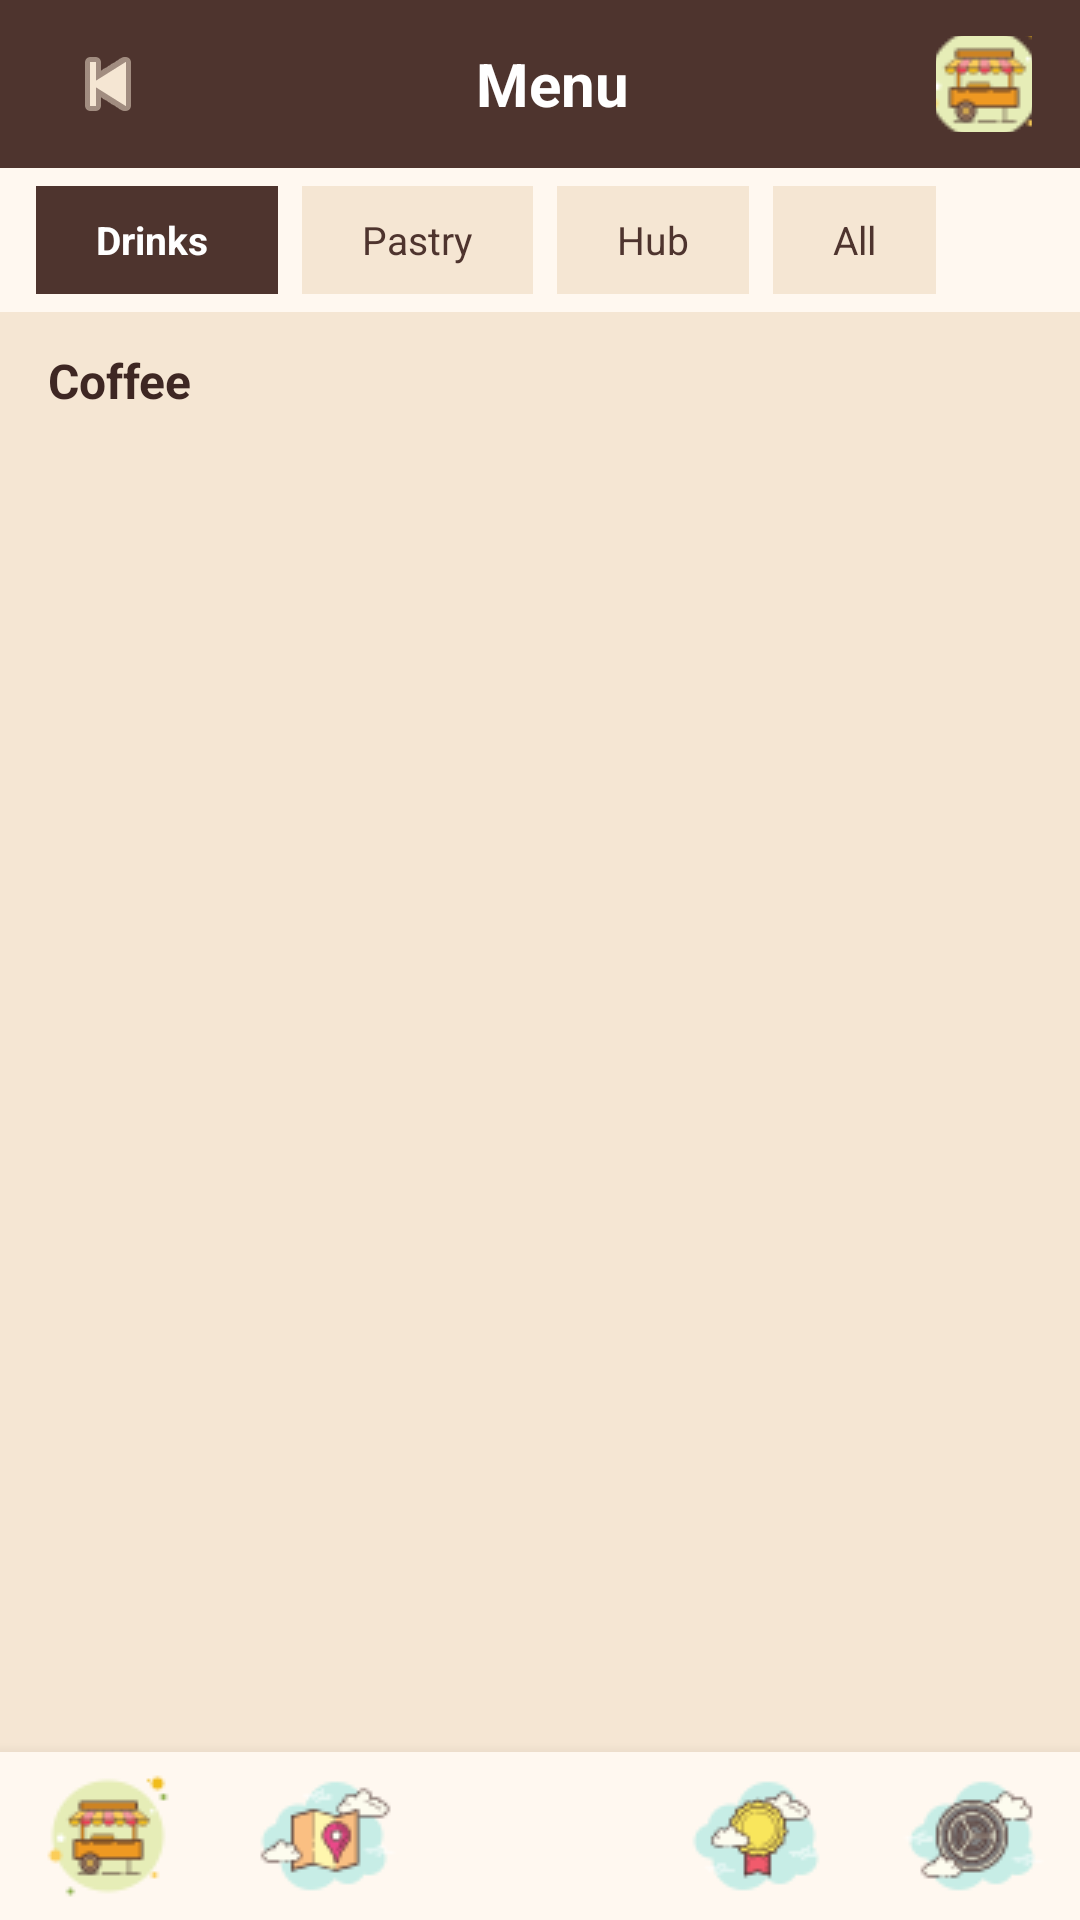

Where icons sit on this 1080×1920 app screen, as (x1, y1, x2, y2):
Back: (85, 57, 131, 111)
Cart: (936, 36, 1032, 132), (48, 1775, 168, 1897)
Locator: (260, 1782, 391, 1890)
Rewards: (694, 1782, 818, 1890)
